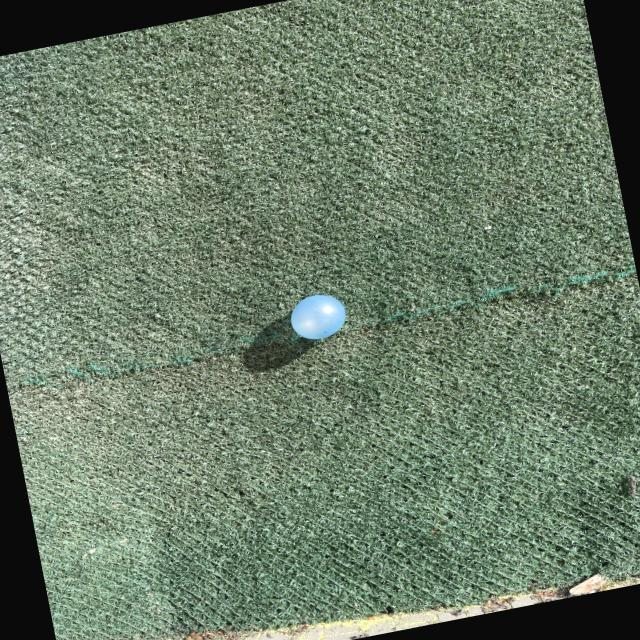balloon: (291, 295, 346, 339)
